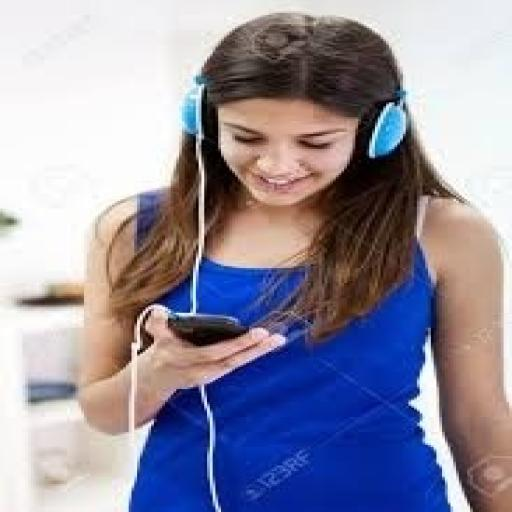listening_to_music: (73, 9, 509, 510)
